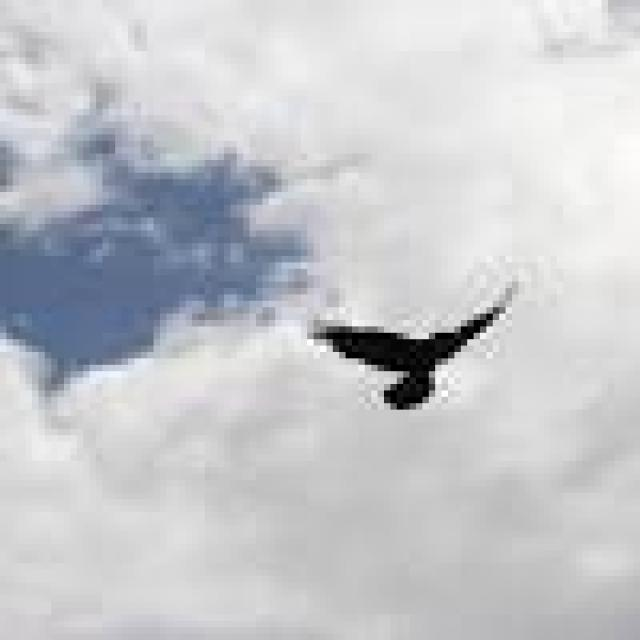bird: (293, 264, 560, 419)
